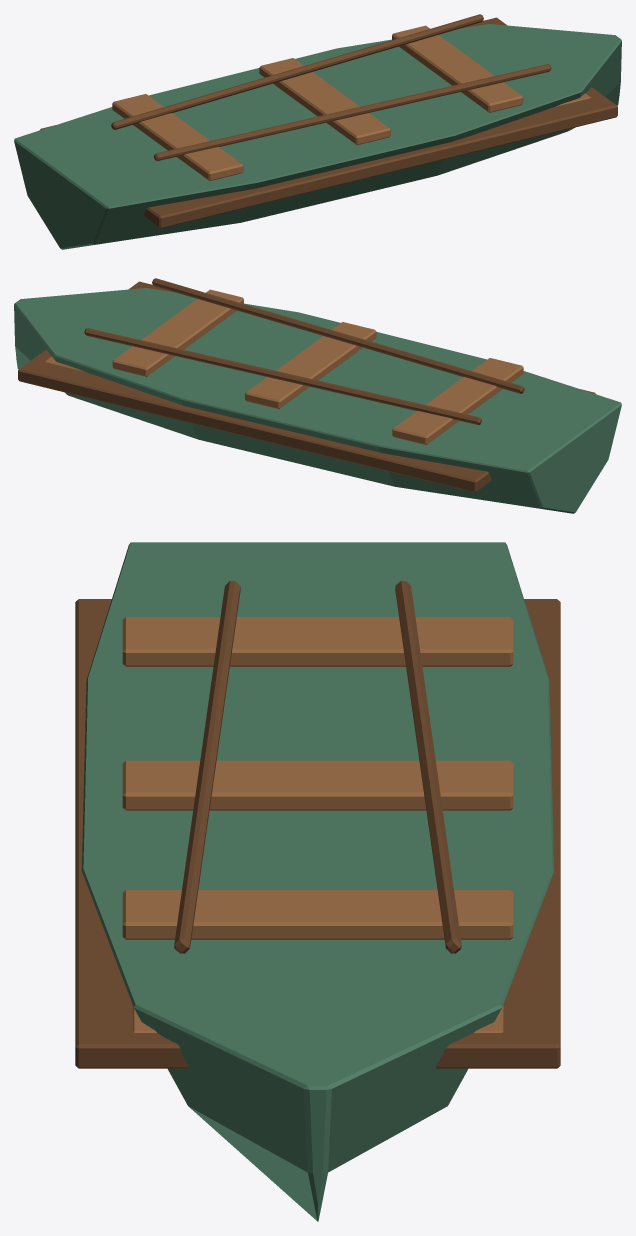
The model's file is eka_gron.glb.
3 renders of one model, top to bottom at view 1: azimuth 30°, elevation 25°; view 2: azimuth 150°, elevation 25°; view 3: azimuth 270°, elevation 25°, orthographic. The views are drawn at different scales.
Visible parts, largest first — view 1: eka_gron; view 2: eka_gron; view 3: eka_gron.
Boxes of the visible parts, x1,y1,x2,y2 form: eka_gron: (14, 14, 621, 249); eka_gron: (14, 278, 621, 513); eka_gron: (75, 542, 560, 1221).
Bounding box in the file's own units: 3.8 × 0.719 × 1.43.
